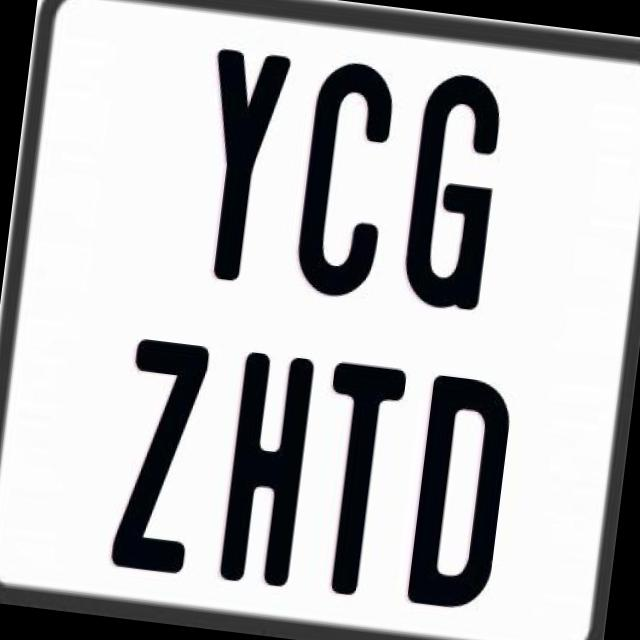C: (293, 54, 407, 303)
D: (403, 370, 514, 610)
G: (396, 65, 510, 314)
H: (218, 346, 316, 582)
T: (304, 360, 412, 599)
Y: (190, 44, 298, 290)
Z: (108, 333, 209, 569)
